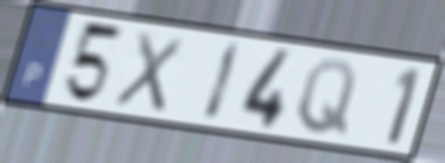1: (385, 65, 423, 149)
4: (237, 44, 295, 132)
5: (62, 17, 125, 106)
I: (200, 38, 246, 126)
Q: (294, 56, 360, 139)
X: (110, 27, 188, 115)
